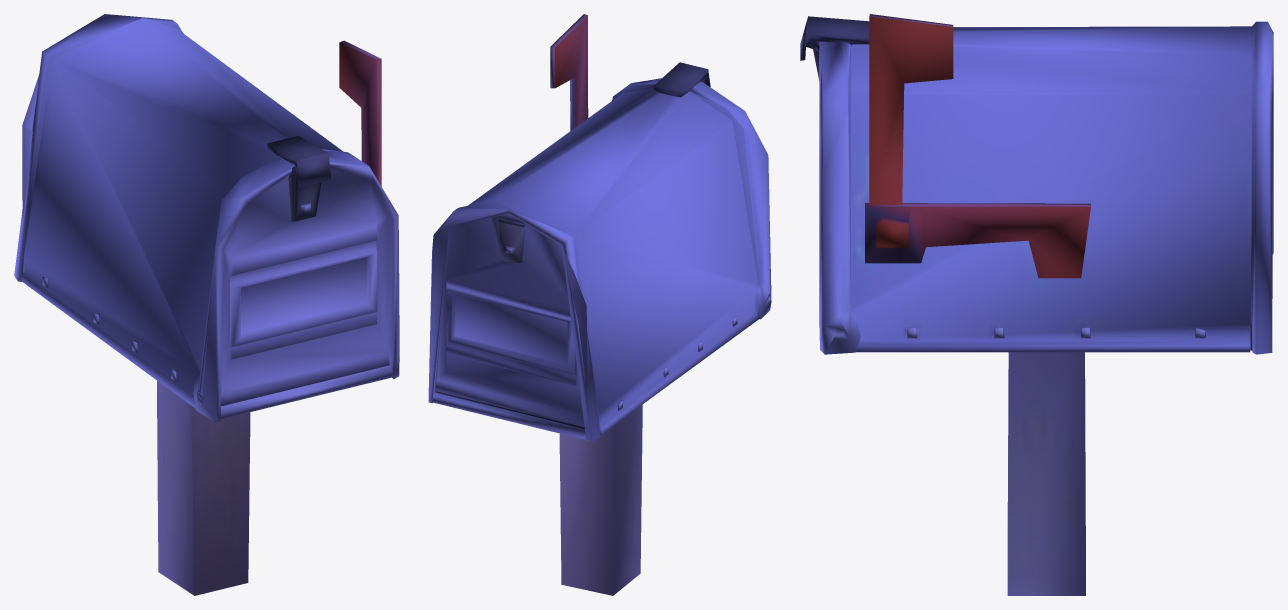
File: model.progressive.glb
3 renders of one model, left to right at view 1: azimuth 30°, elevation 25°; view 2: azimuth 150°, elevation 25°; view 3: azimuth 270°, elevation 25°, orthographic. The views are drawn at different scales.
Parts seen in each view (by area): view 1: mesh_input; view 2: mesh_input; view 3: mesh_input.
Part boxes in pixels (<box>): mesh_input: <box>14,14,399,595</box>; mesh_input: <box>428,14,771,595</box>; mesh_input: <box>800,14,1273,595</box>.
Bounding box in the file's own units: 0.7343 × 1.9 × 1.32.
1 material, 1 textured.
